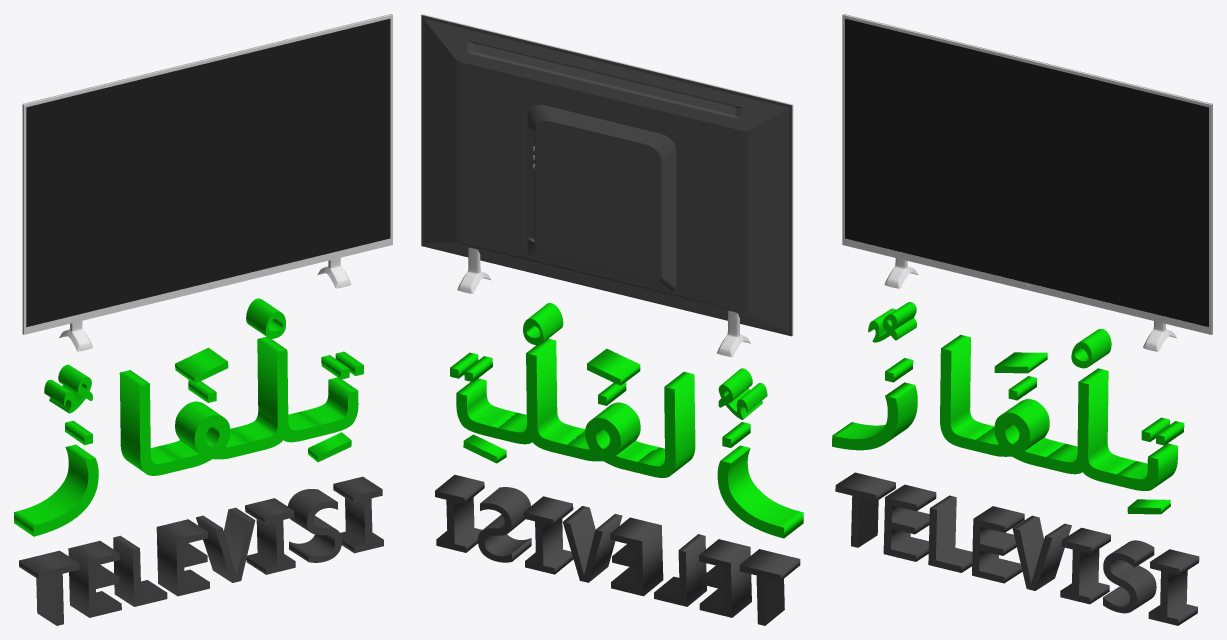
The model's file is MI SMART TV.fbx.
The picture shows the model from 3 angles, left to right: view 1: azimuth 30°, elevation 25°; view 2: azimuth 150°, elevation 25°; view 3: azimuth 330°, elevation 25°; orthographic projection.
Parts seen in each view (by area): view 1: Plane.002, Teks.005, Teks, Plane, Teks.004, Teks.003, Teks.002, Cube, Teks.001; view 2: Plane, Teks.005, Teks, Teks.004, Cube, Teks.003, Teks.002, Teks.001; view 3: Plane.002, Teks.005, Teks, Plane, Teks.004, Teks.002, Cube, Teks.003, Teks.001.
Boxes of the visible parts, x1,y1,x2,y2 form: Plane.002: (26, 18, 390, 327); Teks.005: (19, 476, 383, 625); Teks: (14, 336, 363, 536); Plane: (22, 14, 392, 334); Teks.004: (44, 364, 92, 413); Teks.003: (175, 347, 228, 383); Teks.002: (246, 298, 285, 338); Cube: (59, 258, 351, 351); Teks.001: (308, 432, 351, 462); Plane: (421, 14, 793, 336); Teks.005: (435, 474, 800, 625); Teks: (450, 338, 803, 538); Teks.004: (718, 368, 767, 419); Cube: (457, 247, 750, 356); Teks.003: (587, 348, 640, 385); Teks.002: (523, 303, 563, 345); Teks.001: (463, 434, 506, 463); Plane.002: (845, 18, 1208, 327); Teks.005: (835, 472, 1199, 625); Teks: (832, 335, 1184, 490); Plane: (842, 14, 1212, 334); Teks.004: (868, 302, 916, 342); Teks.002: (1071, 329, 1111, 368); Cube: (884, 258, 1176, 351); Teks.003: (994, 352, 1047, 373); Teks.001: (1127, 499, 1170, 514).
Size of the model in its own units: 435 by 585 by 52.48.
